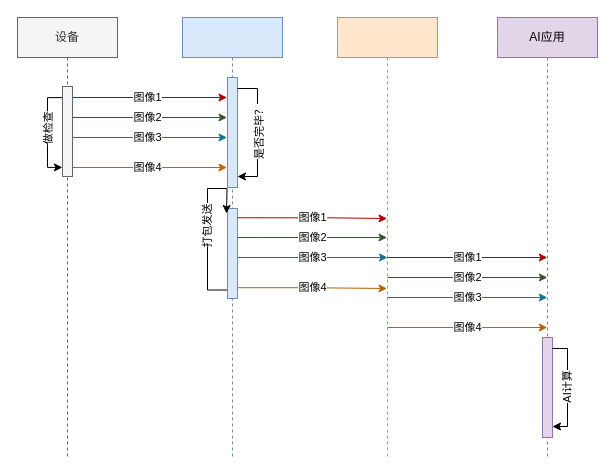
Some shapes in this 615 by 475 pixel diagram are drawn without their labels. The box of each missing label's shape, as (x1, y1, x2, y2) in pixels:
Exchange: (336, 16, 438, 458)
PACS: (182, 16, 282, 458)
